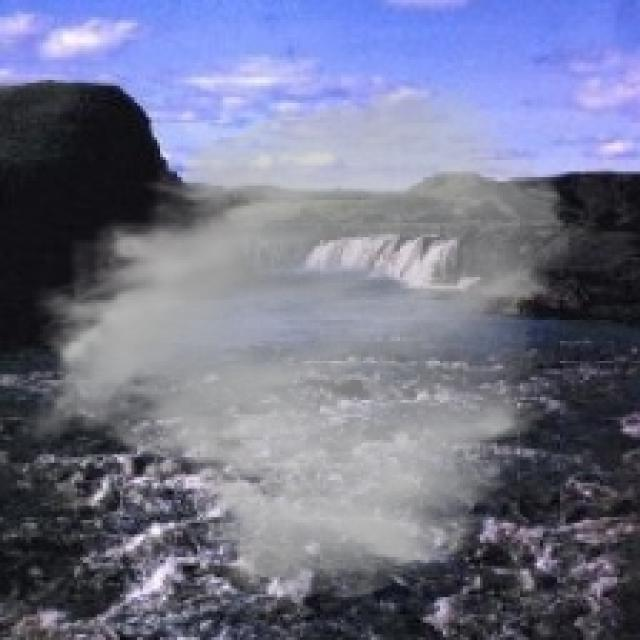smoke: (20, 80, 574, 606)
